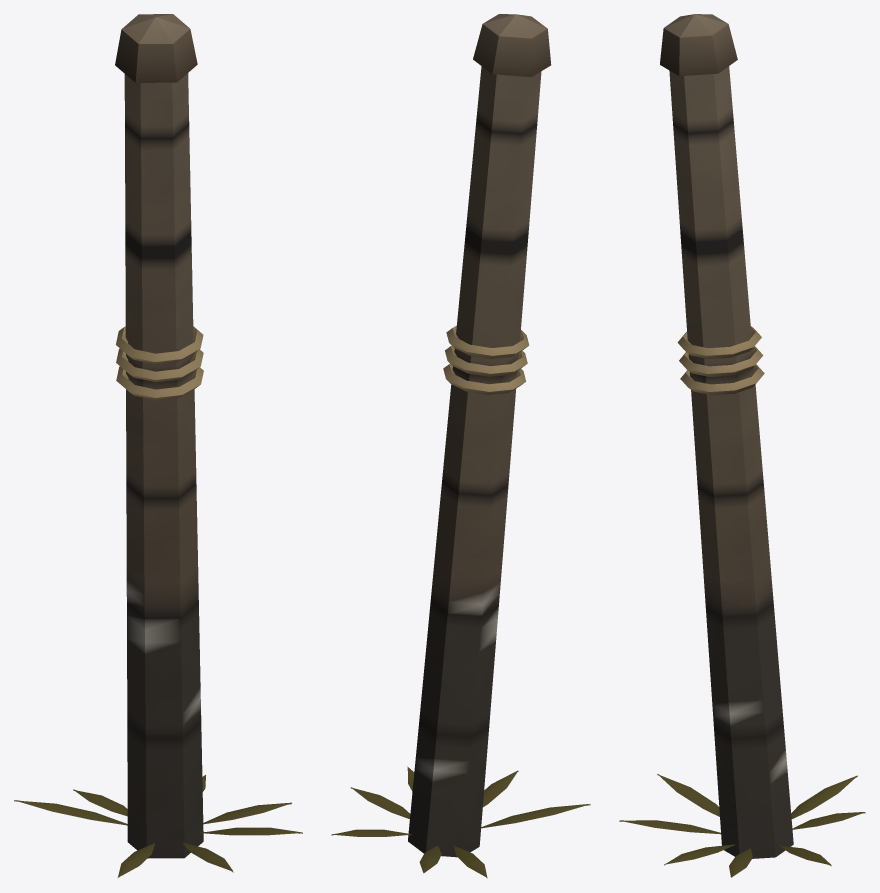
Rendered from pole.glb.
3 renders of one model, left to right at view 1: azimuth 30°, elevation 25°; view 2: azimuth 150°, elevation 25°; view 3: azimuth 270°, elevation 25°, orthographic. The views are drawn at different scales.
Parts seen in each view (by area): view 1: causeway_pole; view 2: causeway_pole; view 3: causeway_pole.
Part boxes in pixels (x1,y1,x2,y2): causeway_pole: (14, 14, 302, 877); causeway_pole: (331, 14, 590, 878); causeway_pole: (619, 14, 865, 877).
Bounding box in the file's own units: 0.3577 × 1.38 × 0.3778.
